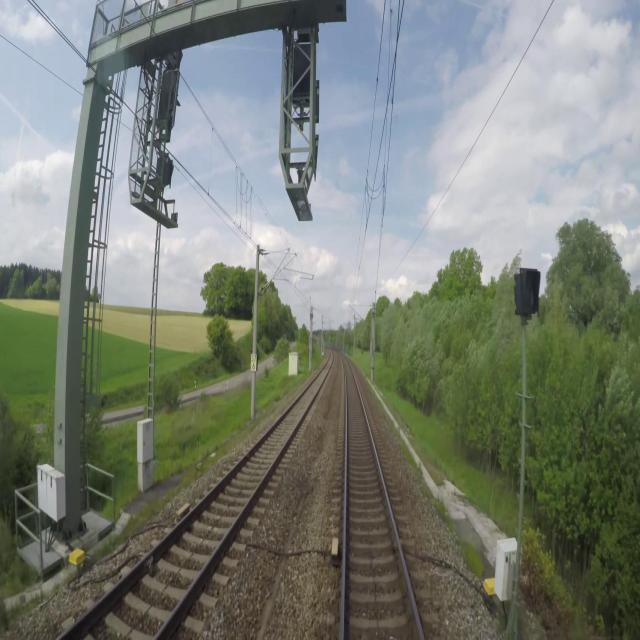rail-track: (63, 354, 332, 639), (344, 358, 419, 639)
